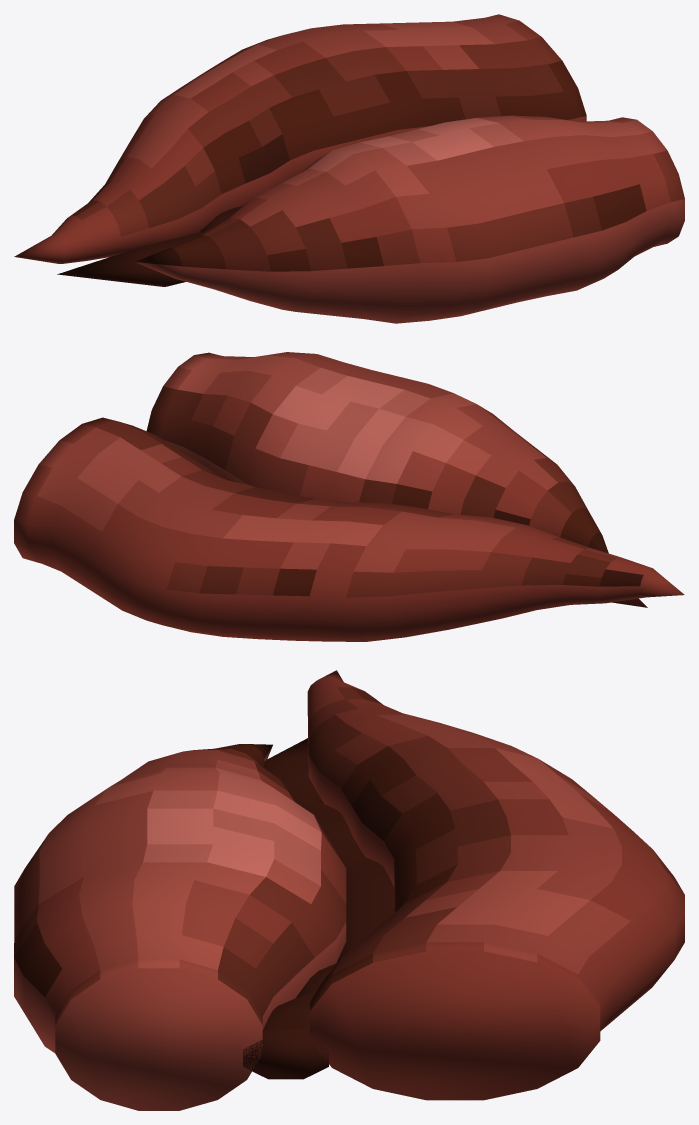
The model's file is newsh-caret-196.glb.
3 views of the same model, one above another, from view 1: azimuth 30°, elevation 25°; view 2: azimuth 150°, elevation 25°; view 3: azimuth 270°, elevation 25° (orthographic). The views are drawn at different scales.
Parts seen in each view (by area): view 1: newsh-caret-196; view 2: newsh-caret-196; view 3: newsh-caret-196.
Boxes of the visible parts, x1,y1,x2,y2 form: newsh-caret-196: [14, 14, 684, 323]; newsh-caret-196: [14, 352, 684, 641]; newsh-caret-196: [14, 670, 684, 1110].
Bounding box in the file's own units: 1.66 × 0.4217 × 1.32.
